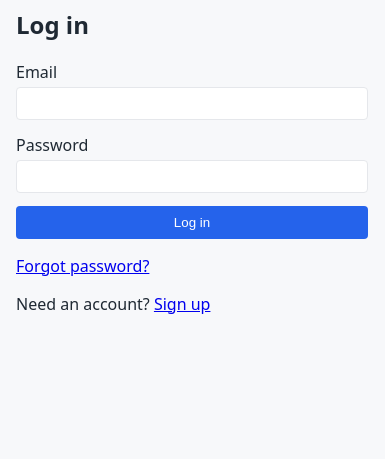
LoginPage › surfaces a resend affordance on 403 EMAIL_NOT_VERIFIED (boundary)
Type "user@example.com" into the field labelled "Email".
click(192, 103); type("user@example.com")  # box x1=16 y1=87 x2=368 y2=120
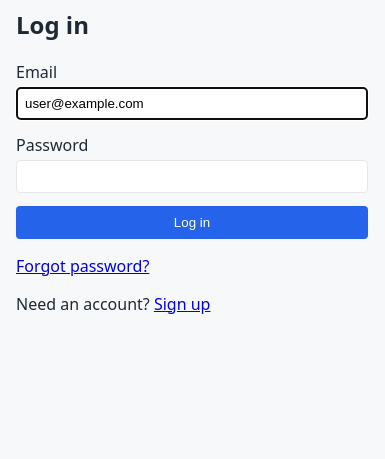
Type "password1" into the password field labelled "Password".
click(192, 176); type("password1")  # box x1=16 y1=160 x2=368 y2=192
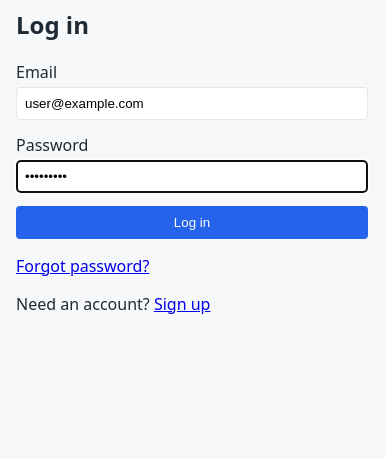
Click the button "Log in".
click(192, 222)  # box x1=16 y1=206 x2=368 y2=239
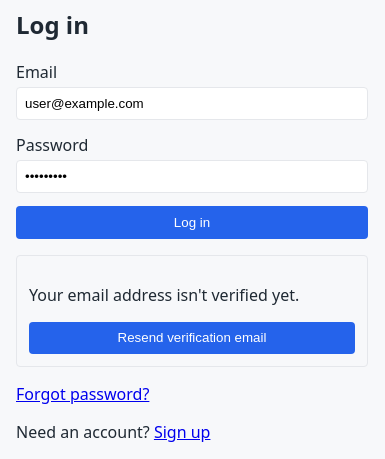
Expected: the text "Your email address isn't verified yet." is shown, x1=29 y1=284 x2=299 y2=306
Expected: the button "Resend verification email" is shown, x1=29 y1=322 x2=355 y2=354
